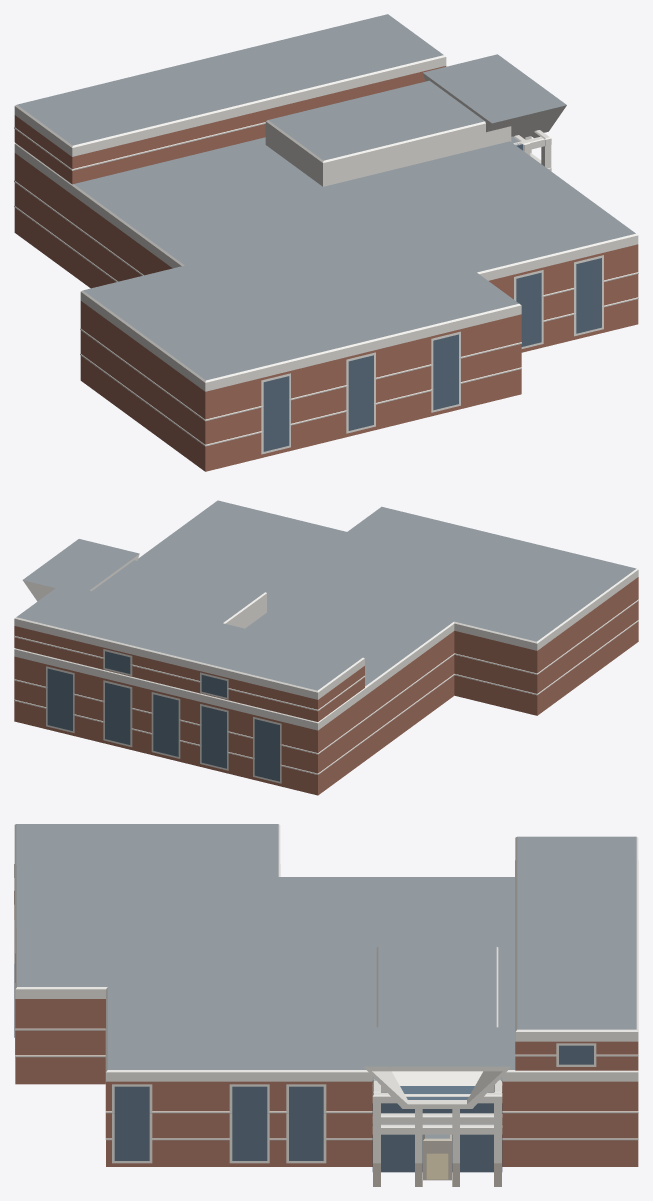
Rendered from cola-columbia-museum-of-art.glb.
3 renders of one model, top to bottom at view 1: azimuth 30°, elevation 25°; view 2: azimuth 150°, elevation 25°; view 3: azimuth 270°, elevation 25°, orthographic. The views are drawn at different scales.
Parts seen in each view (by area): view 1: Columbia Museum of Art; view 2: Columbia Museum of Art; view 3: Columbia Museum of Art.
Boxes of the visible parts, left/top/right/bottom form: Columbia Museum of Art: left=14, top=14, right=638, bottom=471; Columbia Museum of Art: left=14, top=500, right=638, bottom=795; Columbia Museum of Art: left=14, top=824, right=638, bottom=1186.
Size of the model in its own units: 74.25 by 17.3 by 71.74.
